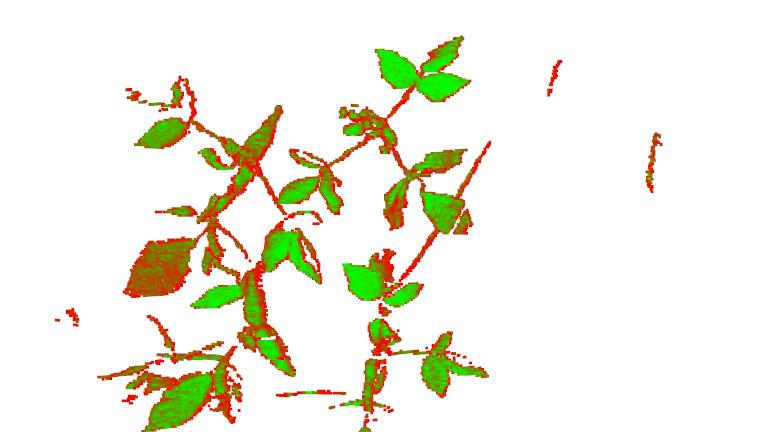mungbean: (117, 77, 323, 301), (278, 35, 473, 235), (99, 272, 295, 428), (339, 247, 492, 432)
